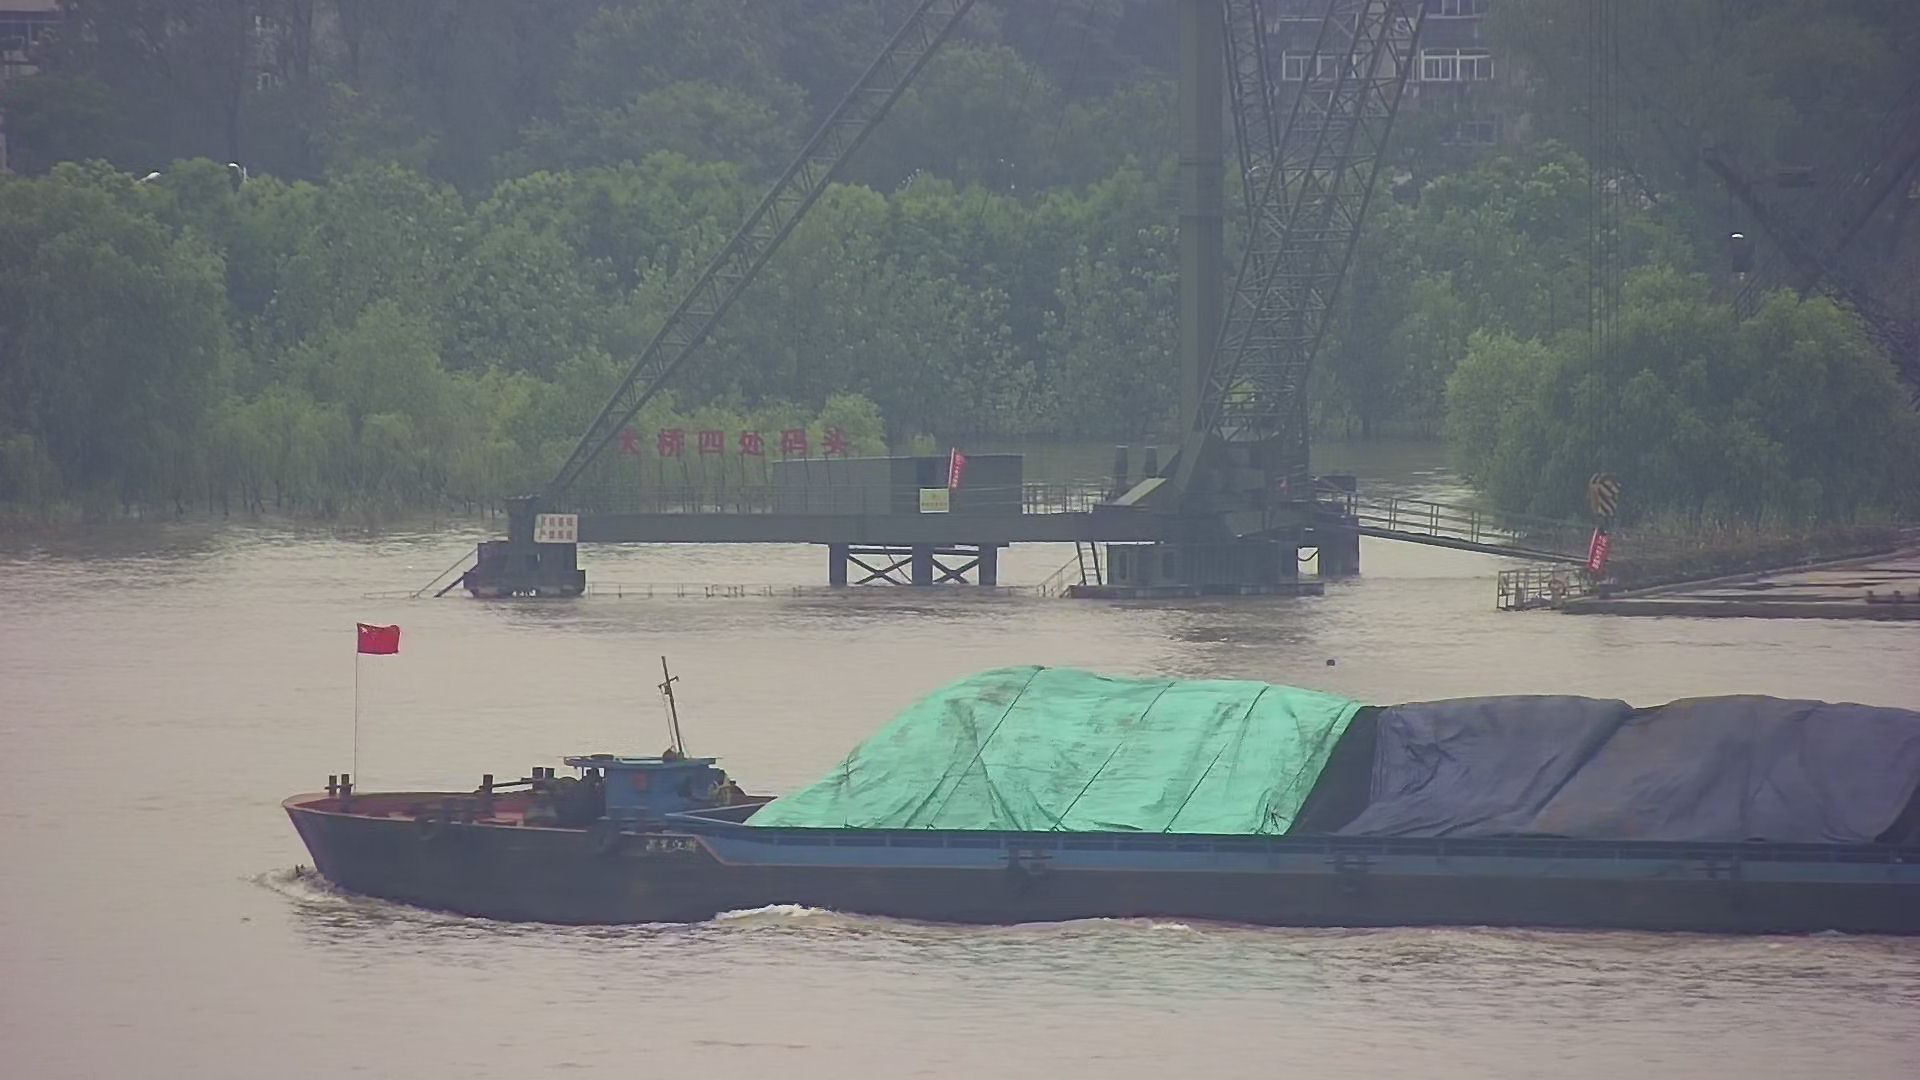platform: (413, 1, 1416, 603)
rubbish: (1319, 641, 1349, 676)
ship: (225, 615, 1920, 959)
